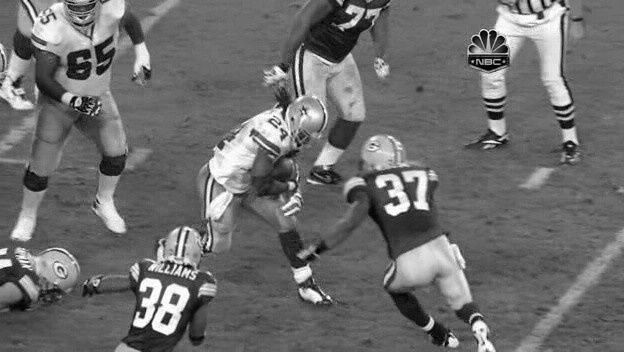person: (287, 97, 326, 148), (286, 97, 325, 148), (288, 97, 327, 148), (287, 96, 326, 147), (287, 98, 326, 149)
target_negative: (105, 140, 561, 243), (310, 254, 532, 336), (401, 79, 566, 185), (502, 104, 568, 198), (597, 248, 611, 253)
